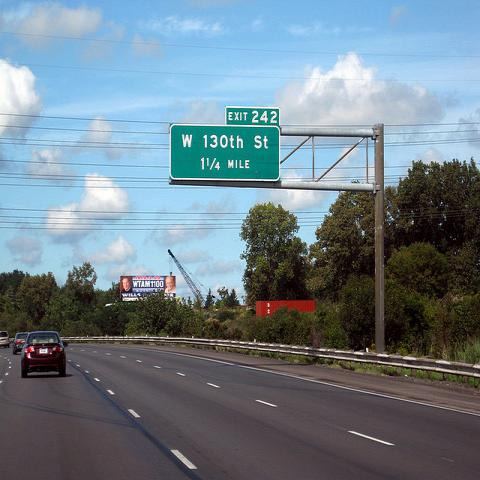car: (18, 331, 69, 378), (12, 331, 28, 354), (0, 331, 10, 348)
